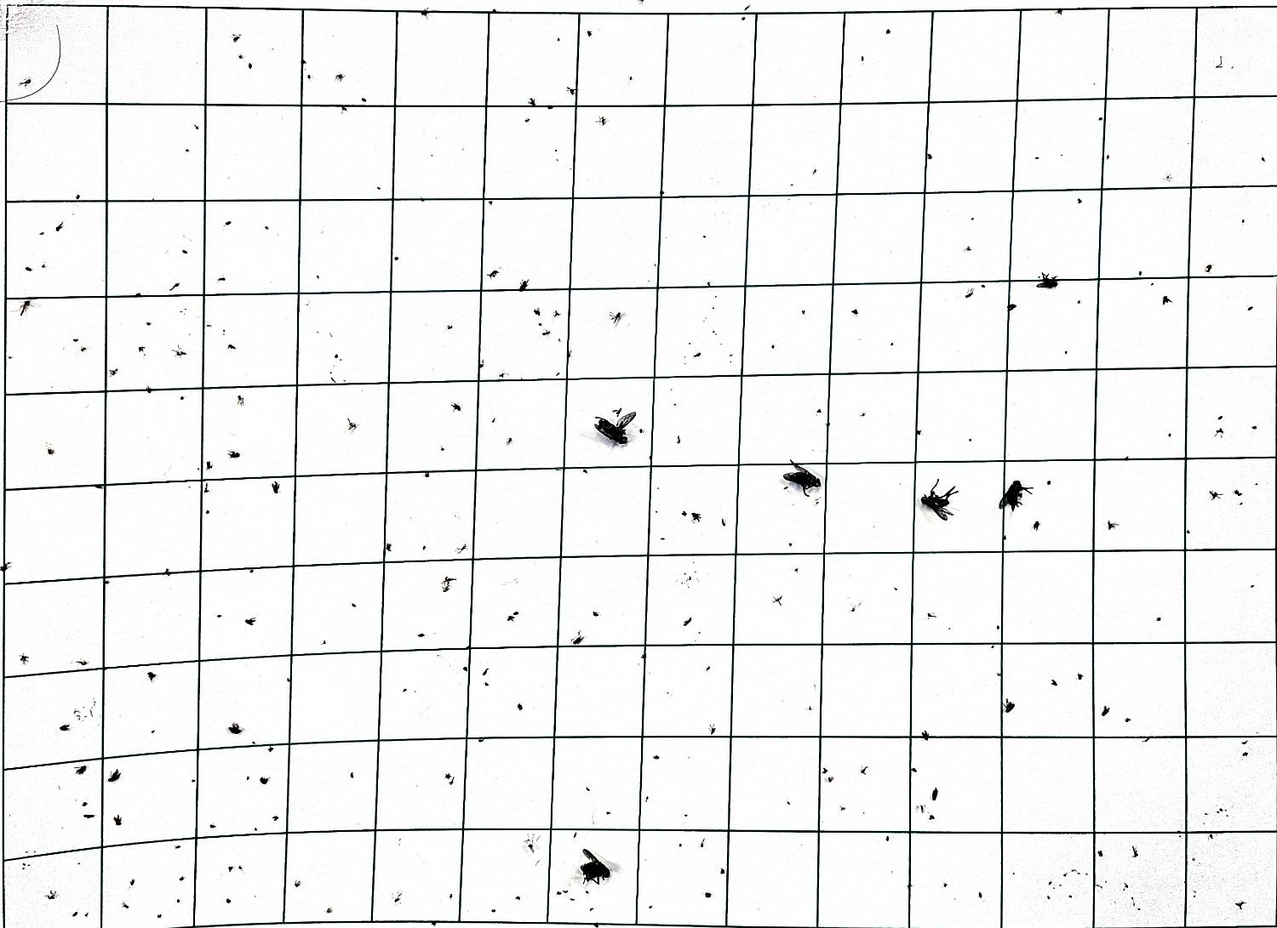fly: (923, 479, 961, 522), (783, 461, 822, 498), (593, 410, 634, 445), (578, 847, 613, 886), (999, 479, 1033, 512)
test: (1037, 272, 1059, 289), (16, 298, 34, 318), (681, 510, 702, 524), (441, 575, 455, 592), (226, 722, 244, 735), (107, 768, 122, 782), (524, 838, 536, 855), (610, 311, 624, 325), (1004, 697, 1015, 713), (391, 890, 403, 904), (347, 418, 358, 432), (518, 279, 530, 291), (0, 561, 12, 573), (571, 633, 583, 645), (45, 889, 58, 900), (1209, 490, 1223, 500), (172, 348, 186, 358), (18, 77, 32, 87), (1214, 55, 1224, 69), (850, 601, 862, 612), (506, 611, 518, 622), (45, 442, 56, 454), (74, 765, 87, 775), (456, 544, 467, 555), (1107, 520, 1119, 530), (487, 269, 499, 279), (271, 481, 280, 494), (1100, 703, 1109, 716), (614, 405, 623, 418), (147, 671, 157, 682), (596, 116, 607, 126), (772, 595, 783, 605), (450, 402, 461, 412), (19, 654, 30, 664), (55, 221, 65, 232), (244, 617, 256, 626), (113, 814, 122, 826), (444, 772, 453, 784), (227, 450, 240, 458), (1215, 427, 1225, 437), (566, 86, 576, 96), (420, 7, 430, 17), (266, 746, 276, 756), (1131, 846, 1140, 857), (1234, 901, 1245, 910), (236, 394, 244, 406), (59, 723, 71, 731), (930, 788, 938, 800), (965, 288, 974, 298), (1162, 296, 1172, 305), (335, 73, 345, 82), (860, 765, 869, 775), (528, 97, 537, 107), (682, 617, 692, 626), (170, 282, 180, 291), (144, 386, 154, 395), (709, 724, 717, 735), (921, 730, 929, 740), (205, 460, 213, 470), (1163, 174, 1173, 182), (260, 776, 270, 784), (165, 567, 173, 577), (41, 263, 49, 273), (75, 660, 88, 666), (1033, 520, 1040, 531), (533, 307, 541, 316), (109, 368, 118, 376), (1204, 264, 1212, 273), (232, 34, 240, 43), (83, 813, 95, 819), (385, 542, 392, 552), (74, 709, 81, 719), (823, 422, 833, 429), (204, 482, 210, 493), (1008, 303, 1016, 311), (340, 105, 348, 113), (516, 703, 524, 711), (227, 343, 236, 350), (675, 436, 682, 445), (858, 54, 865, 63), (476, 362, 485, 369), (999, 533, 1009, 539), (272, 814, 278, 824), (416, 632, 426, 638), (691, 352, 701, 358), (138, 346, 146, 353), (826, 775, 834, 782), (506, 437, 513, 445), (1055, 8, 1063, 15), (294, 879, 301, 887), (704, 891, 712, 898), (178, 875, 186, 882), (242, 775, 250, 782), (783, 799, 791, 806), (1124, 717, 1131, 725), (1128, 896, 1136, 903), (215, 277, 226, 282), (927, 612, 936, 618), (102, 579, 111, 585), (677, 840, 683, 849), (927, 815, 936, 821), (1215, 807, 1221, 816), (496, 372, 505, 378), (135, 291, 144, 297), (193, 121, 199, 130), (488, 198, 494, 207), (851, 309, 858, 316), (1051, 679, 1058, 686), (122, 902, 129, 909), (1208, 832, 1215, 839), (72, 910, 79, 917), (553, 310, 560, 317), (333, 353, 340, 360), (964, 246, 972, 252), (1077, 672, 1083, 680), (586, 29, 592, 37), (25, 266, 33, 272), (207, 823, 215, 829), (462, 664, 468, 672), (652, 754, 660, 760), (583, 785, 589, 793), (720, 868, 726, 876), (917, 805, 925, 811), (884, 835, 890, 843), (770, 342, 776, 350), (547, 105, 555, 111), (638, 426, 644, 434), (567, 896, 576, 901), (1063, 348, 1068, 357), (445, 325, 454, 330), (583, 466, 588, 475), (247, 62, 253, 69), (977, 891, 983, 898), (1097, 850, 1103, 857), (927, 153, 933, 160), (906, 883, 912, 890), (1155, 616, 1162, 622), (1242, 751, 1249, 757), (129, 878, 135, 885), (157, 912, 163, 919), (190, 778, 197, 784), (20, 861, 27, 867), (226, 866, 232, 873), (149, 727, 155, 734), (490, 908, 497, 914), (484, 682, 490, 689), (591, 610, 598, 616), (640, 651, 646, 658), (993, 669, 1000, 675), (1234, 490, 1240, 497), (1191, 891, 1197, 898), (799, 310, 806, 316), (705, 279, 711, 286), (979, 283, 986, 289), (626, 75, 633, 81), (205, 508, 210, 516), (555, 888, 560, 896), (514, 893, 519, 901), (482, 665, 487, 673), (1046, 893, 1051, 901), (1240, 738, 1248, 743), (1062, 871, 1070, 876), (1252, 424, 1257, 432), (542, 331, 550, 336), (425, 472, 430, 480), (79, 347, 87, 352), (225, 219, 230, 227), (916, 429, 922, 435), (816, 408, 822, 414), (321, 636, 325, 645), (215, 612, 221, 618), (571, 831, 577, 837), (839, 806, 845, 812), (1097, 883, 1103, 889), (967, 438, 973, 444), (1104, 154, 1110, 160), (811, 169, 817, 175), (700, 233, 706, 239), (739, 16, 748, 20), (72, 336, 78, 342), (145, 321, 151, 327), (181, 248, 187, 254), (262, 226, 271, 230), (38, 230, 44, 236), (184, 146, 190, 152), (1272, 156, 1277, 163), (886, 28, 891, 35), (224, 898, 231, 903), (251, 827, 258, 832), (348, 772, 353, 779), (700, 841, 705, 848), (323, 909, 330, 914), (910, 767, 917, 772), (822, 765, 827, 772), (807, 703, 812, 710), (1010, 870, 1015, 877), (1249, 583, 1254, 590), (1046, 881, 1053, 886), (1190, 856, 1197, 861), (1166, 432, 1171, 439), (1136, 269, 1141, 276), (1032, 156, 1039, 161), (522, 117, 529, 122), (394, 254, 399, 261), (315, 274, 322, 279), (178, 396, 185, 401), (236, 54, 243, 59), (360, 98, 367, 103), (604, 810, 612, 814), (889, 339, 893, 347), (1046, 479, 1051, 485), (1218, 415, 1224, 420), (1248, 306, 1254, 311), (1077, 198, 1082, 204), (174, 844, 179, 850), (285, 678, 290, 684), (248, 567, 253, 573), (705, 666, 710, 672), (643, 796, 649, 801), (720, 518, 725, 524), (995, 624, 1001, 629), (943, 881, 948, 887), (1067, 892, 1072, 898), (1144, 737, 1150, 742), (1253, 481, 1258, 487), (859, 413, 865, 418), (1240, 217, 1245, 223), (1097, 116, 1102, 122), (536, 321, 541, 327), (75, 194, 80, 200), (306, 74, 311, 80), (376, 186, 382, 191), (440, 446, 445, 452), (175, 899, 182, 903), (238, 864, 242, 871), (587, 907, 594, 911), (1124, 882, 1128, 889), (81, 801, 86, 806), (250, 741, 255, 746), (563, 888, 568, 893), (1238, 501, 1243, 506), (1124, 454, 1129, 459), (1076, 299, 1081, 304), (555, 37, 560, 42), (350, 602, 356, 606), (477, 738, 485, 741), (793, 568, 799, 572), (969, 215, 973, 221), (300, 59, 306, 63), (420, 197, 424, 203), (488, 418, 495, 421), (585, 890, 590, 894), (684, 812, 688, 817), (647, 904, 652, 908), (787, 542, 791, 547), (990, 645, 995, 649), (1187, 530, 1191, 535), (1151, 282, 1155, 287), (402, 686, 405, 692), (946, 627, 952, 630), (659, 536, 667, 538), (1261, 155, 1263, 163), (449, 893, 452, 898), (1203, 811, 1206, 816), (421, 545, 425, 548), (892, 587, 898, 589)
